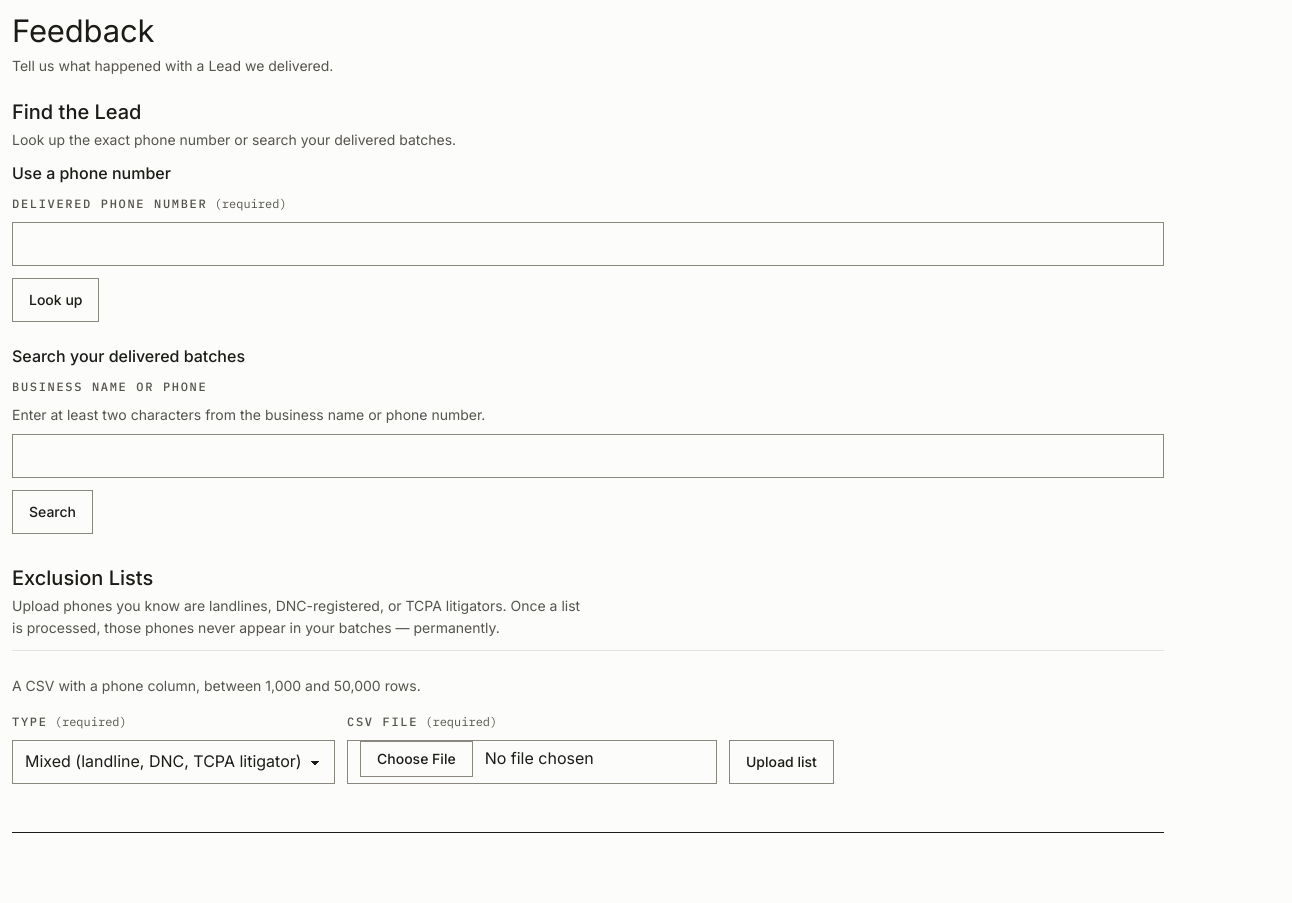
Test: confirming the Lead › confirms business, phone, delivery date, and Batch before entry
In the field labelled "Delivered phone number (required)": (588, 244) [12,222,1164,266], type "2145550001"
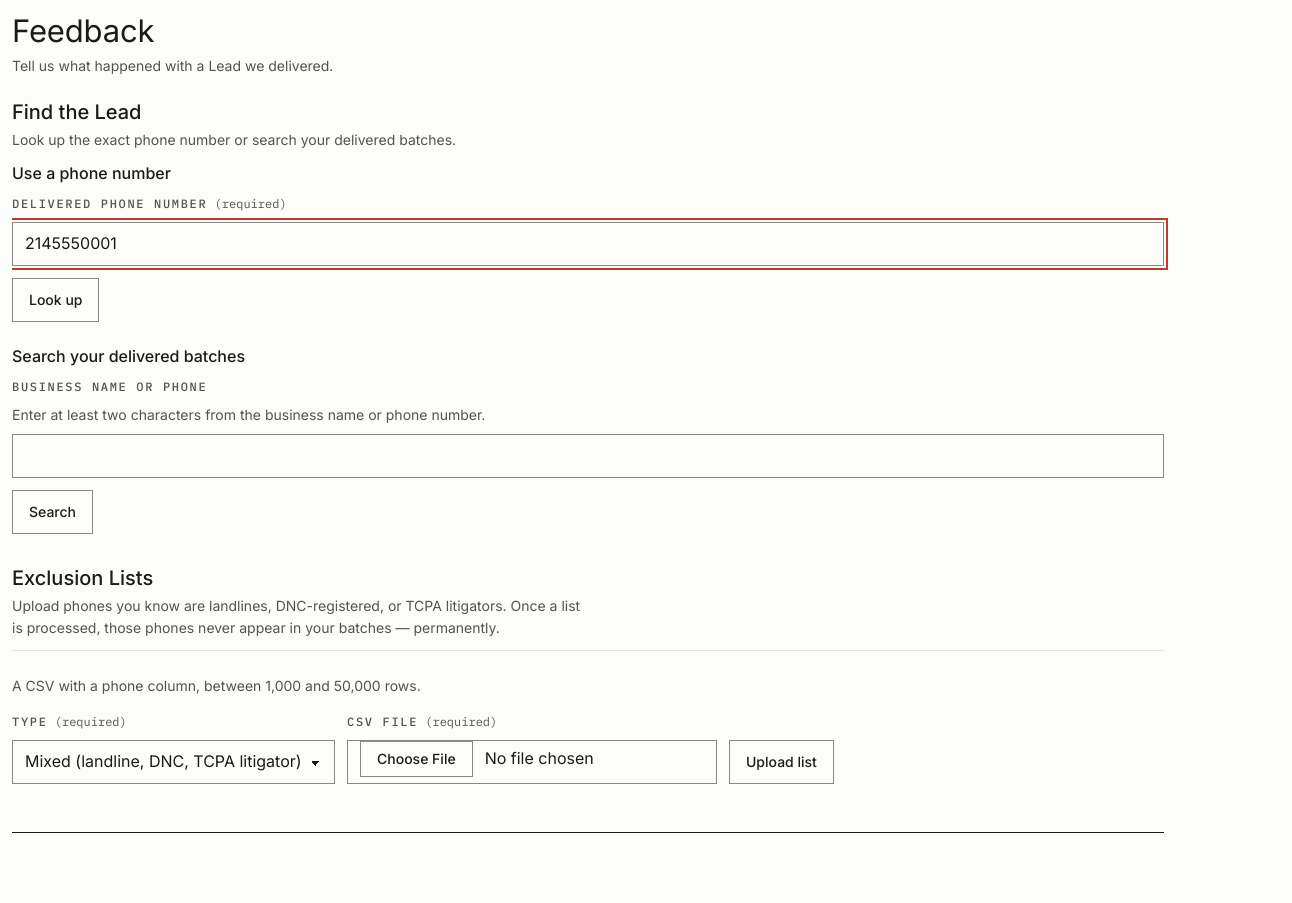
Click the button "Look up": (56, 300) [12,278,100,322]
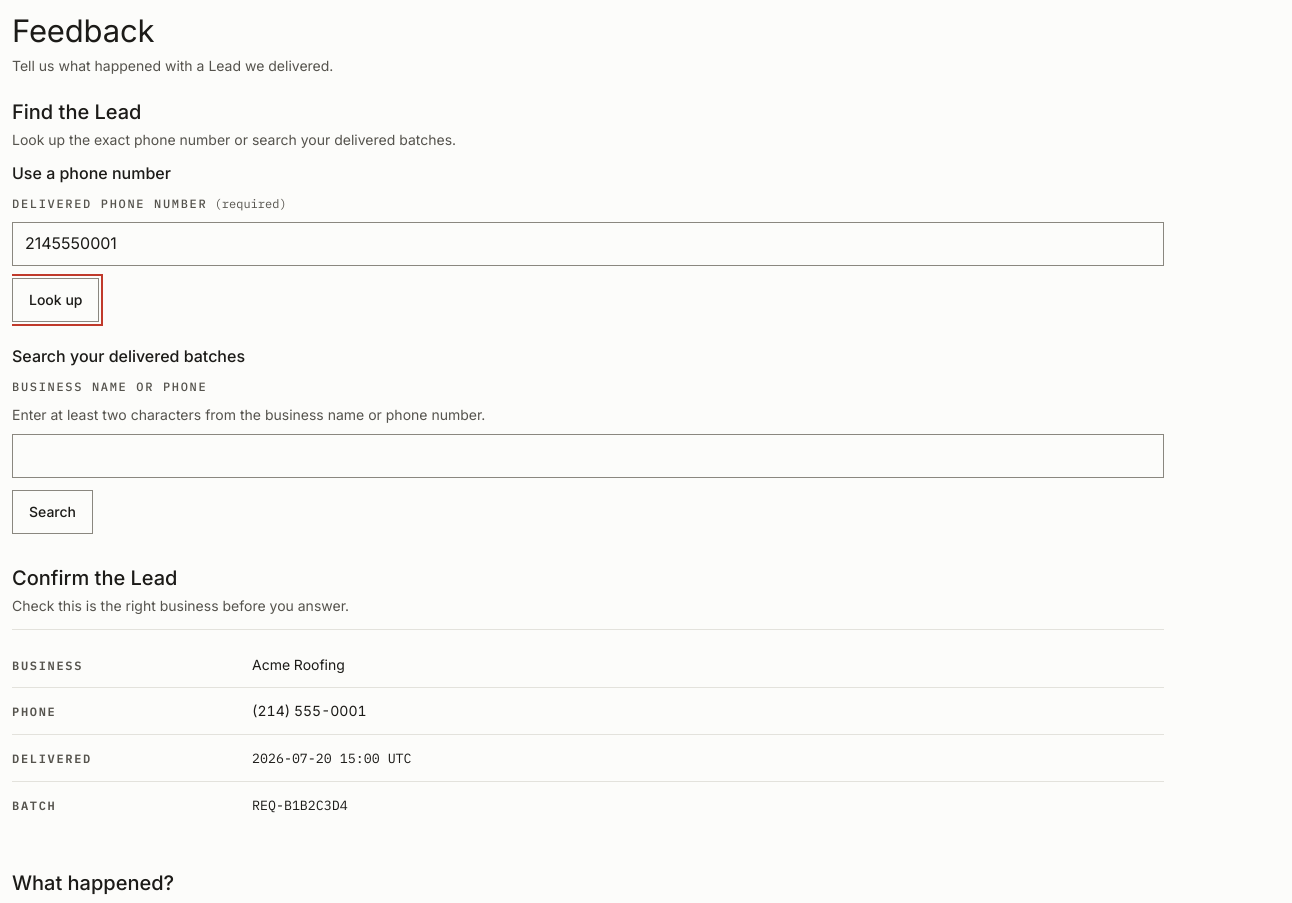
Now the element "Confirm the Lead" is shown, box [12,566,1164,839]
Now the text "Acme Roofing" is shown, box [252,656,345,673]
Now the text "(214) 555-0001" is shown, box [252,702,367,719]
